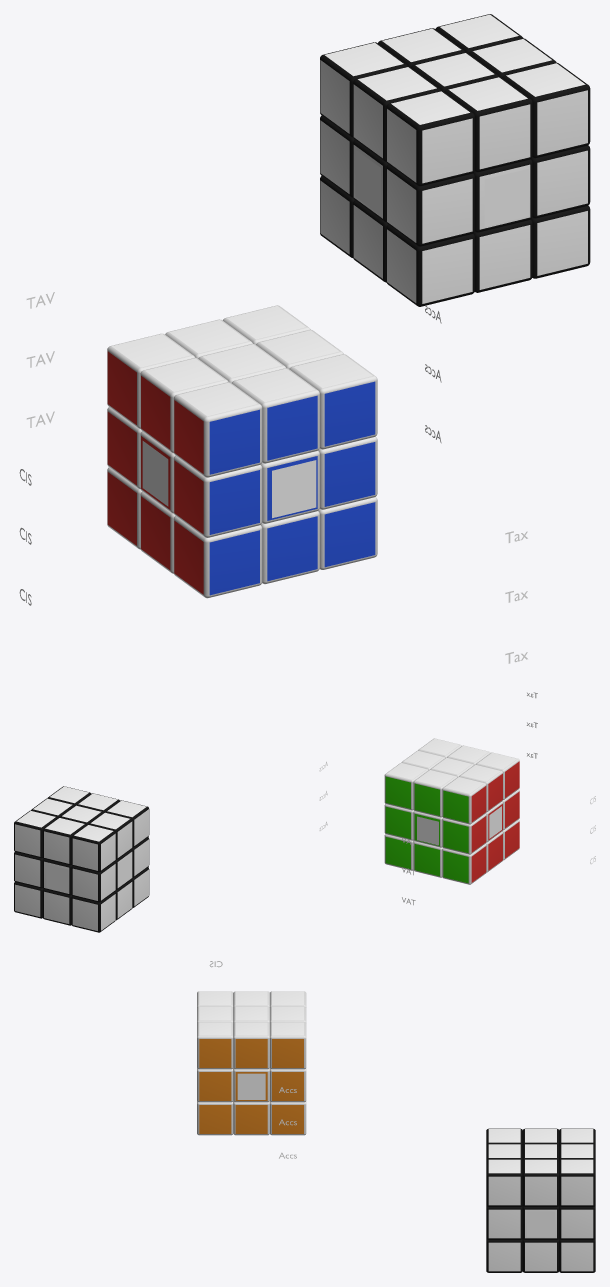
Rendered from cubee.glb.
3 views of the same model, one above another, from view 1: azimuth 30°, elevation 25°; view 2: azimuth 150°, elevation 25°; view 3: azimuth 270°, elevation 25° (orthographic). The views are drawn at different scales.
Visible parts, largest first — view 1: Cube, Cube.001, White out G.007, White out G.006; view 2: Cube, Cube.001, White out G.005, White out G.006; view 3: Cube, Cube.001, White out G.004.
Part boxes in pixels (x1,y1,x2,y2): Cube: (107,305,377,598); Cube.001: (320,14,590,306); White out G.007: (484,168,528,226); White out G.006: (355,149,380,214); Cube: (384,738,519,884); Cube.001: (14,786,149,932); White out G.005: (46,864,68,892); White out G.006: (118,854,131,886); Cube: (197,991,306,1135); Cube.001: (486,1128,595,1272); White out G.004: (527,1211,554,1237).
Size of the model in its own units: 27.94 by 6.57 by 31.65.
